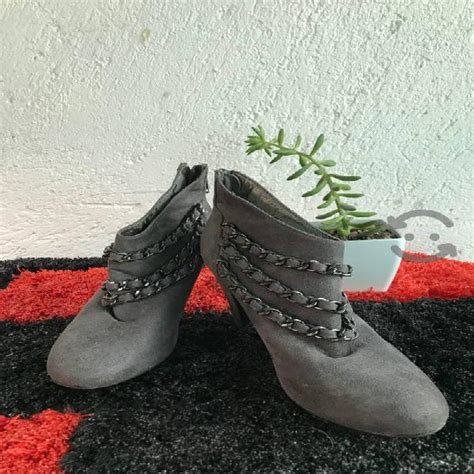gamuza: (47, 164, 449, 438)
